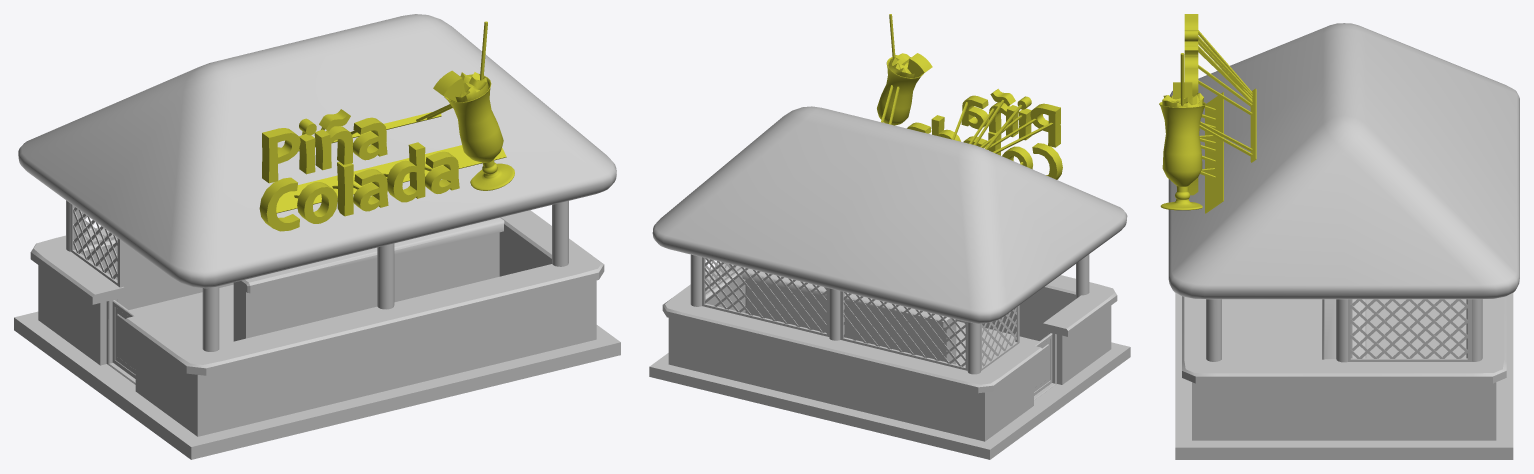
Rendered from Pool_Bar.fbx.
The picture shows the model from 3 angles, left to right: view 1: azimuth 30°, elevation 25°; view 2: azimuth 150°, elevation 25°; view 3: azimuth 270°, elevation 25°; orthographic projection. The views are drawn at different scales.
Parts seen in each view (by area): view 1: Pool_bar, Door; view 2: Pool_bar, Door; view 3: Pool_bar.
Boxes of the visible parts, <box> form: Pool_bar: <box>14,14,620,459</box>; Door: <box>112,300,135,378</box>; Pool_bar: <box>649,14,1130,459</box>; Door: <box>1034,333,1052,395</box>; Pool_bar: <box>1159,14,1519,459</box>.
Size of the model in its own units: 719 by 564 by 534.
